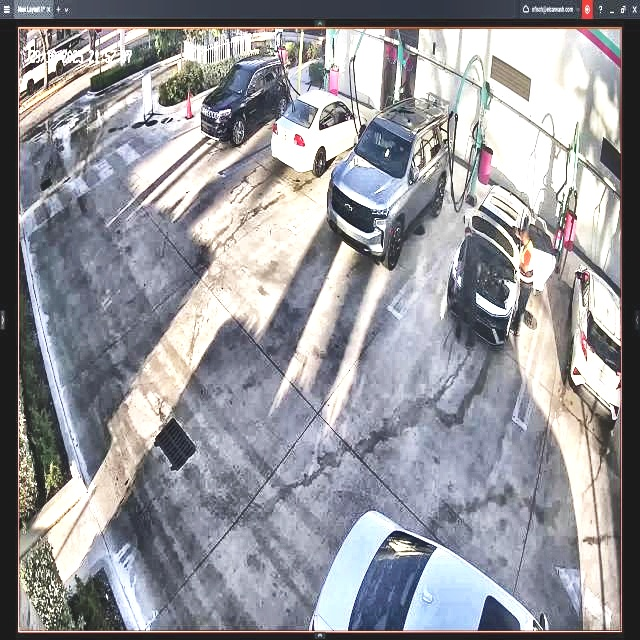Car: (328, 96, 451, 264), (452, 185, 551, 345), (272, 87, 366, 175), (201, 56, 291, 145)
